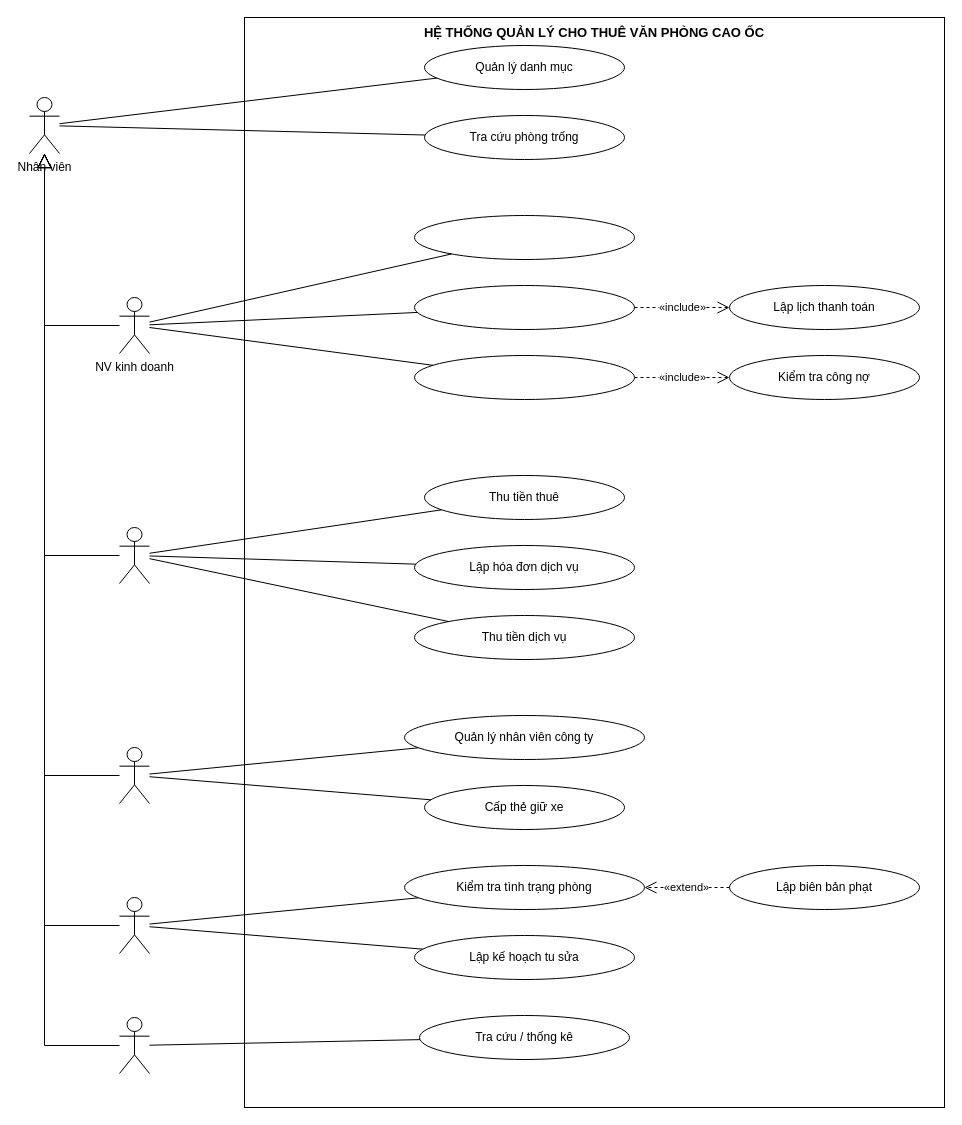
The diagram is 962 pixels wide and 1125 high, and some of its shapes have lost their labels. The centre of each missing label's shape, as x and y in pixels:
"Lập phiếu gia hạn" belongs at pixel 524 377.
"NV an ninh" belongs at pixel 134 775.
"NV kế toán" belongs at pixel 134 555.
"NV kỹ thuật" belongs at pixel 134 925.
"Quản lý" belongs at pixel 134 1045.
"Quản lý hợp đồng thuê" belongs at pixel 524 307.
"Quản lý tầng - phòng" belongs at pixel 524 237.
